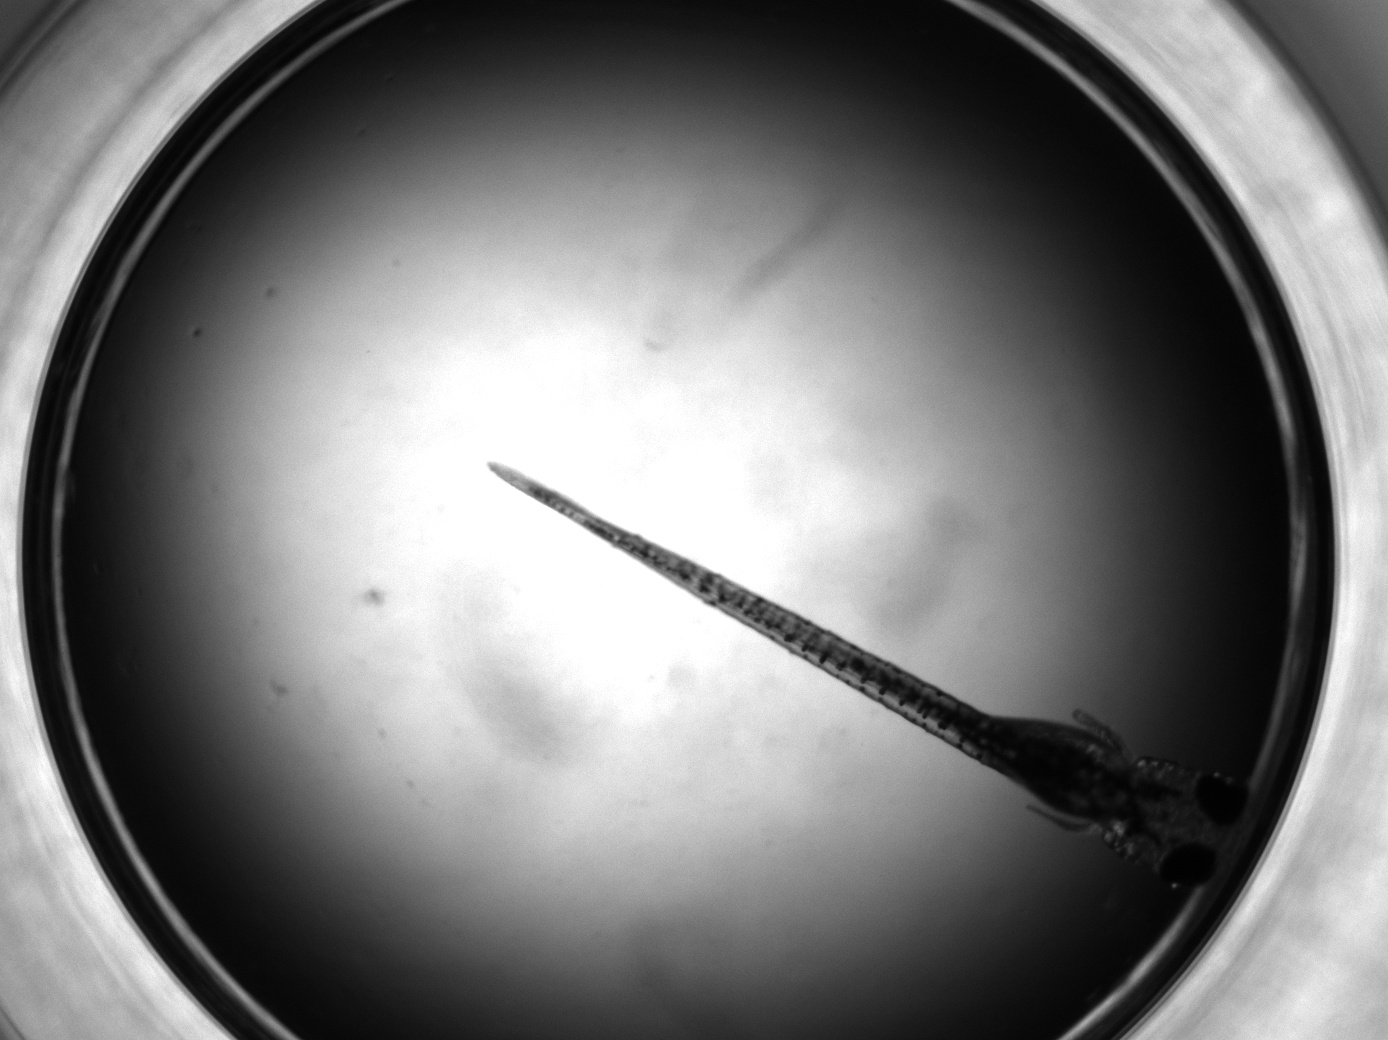embryo: (488, 462, 1250, 890)
eye: (1193, 773, 1250, 827), (1160, 842, 1220, 888)
yolksac: (987, 713, 1131, 822)
